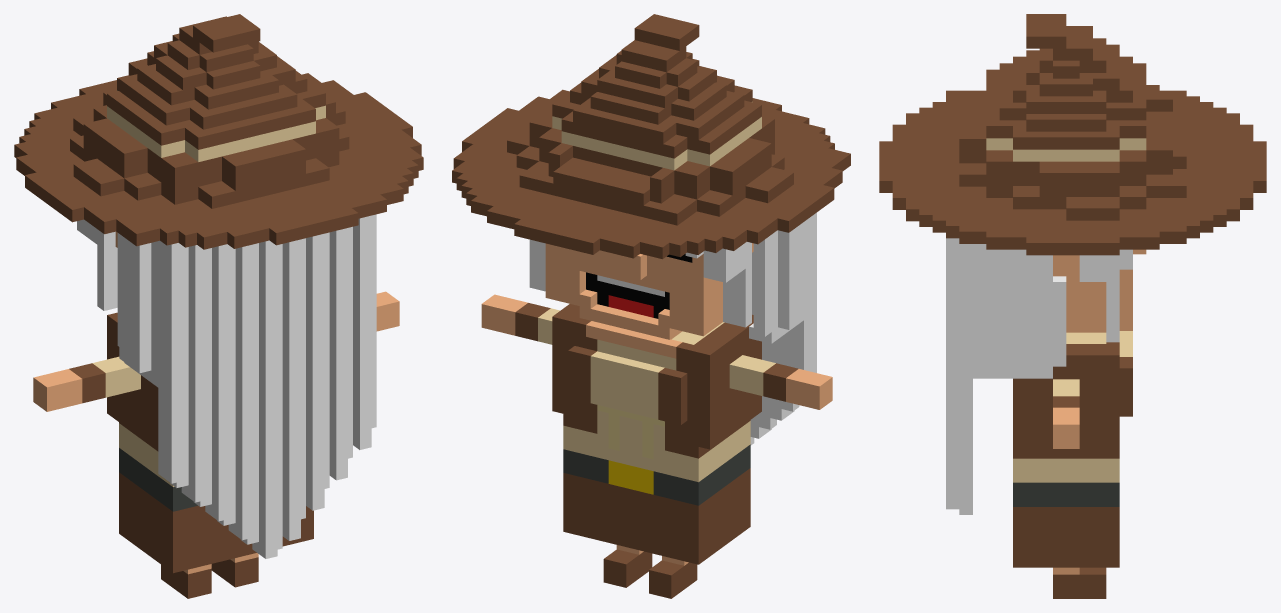
The model's file is farmer2.fbx.
3 views of the same model, side by side, from view 1: azimuth 30°, elevation 25°; view 2: azimuth 150°, elevation 25°; view 3: azimuth 270°, elevation 25° (orthographic). The views are drawn at different scales.
Visible parts, largest first — view 1: ObjObject.004; view 2: ObjObject.004; view 3: ObjObject.004.
Part boxes in pixels (box(x1,y1,x2,y2)): ObjObject.004: box(14, 14, 423, 598); ObjObject.004: box(452, 14, 850, 598); ObjObject.004: box(879, 14, 1266, 598).
Size of the model in its own units: 75.6 by 116 by 73.08.
Materials: 1 (1 with a texture image).
